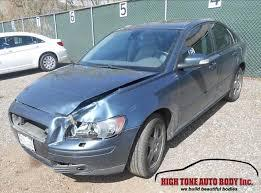fender-dent: (81, 91, 181, 139)
